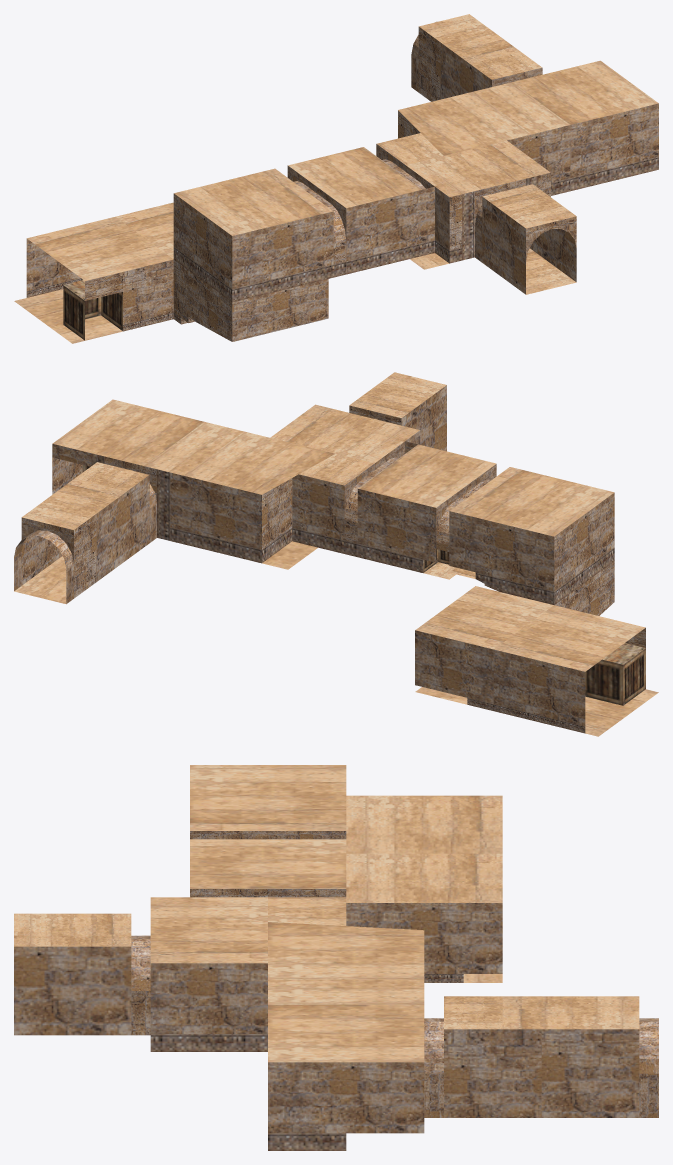
Rendered from 256DustParts1.fbx.
3 renders of one model, top to bottom at view 1: azimuth 30°, elevation 25°; view 2: azimuth 150°, elevation 25°; view 3: azimuth 270°, elevation 25°, orthographic. The views are drawn at different scales.
Parts seen in each view (by area): view 1: Trigger1; view 2: Trigger1; view 3: Trigger1.
Boxes of the visible parts, left/top/right/bottom form: Trigger1: left=14, top=14, right=658, bottom=343; Trigger1: left=14, top=372, right=658, bottom=736; Trigger1: left=14, top=765, right=658, bottom=1150.
Size of the model in its own units: 35.51 by 7.67 by 26.63.
1 material, 1 textured.
